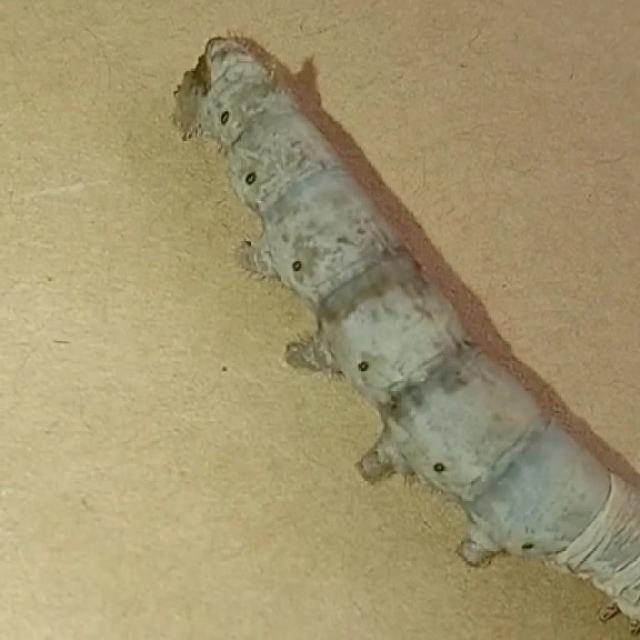Grasserie: (156, 16, 640, 605)
